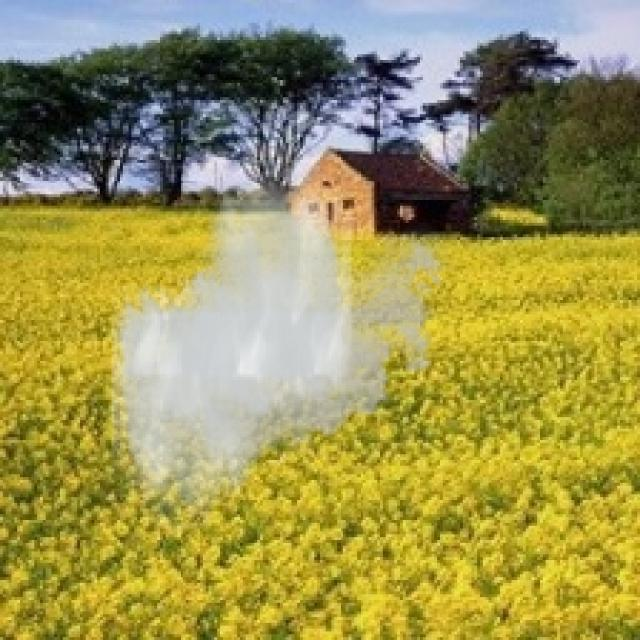smoke: (112, 160, 454, 529)
